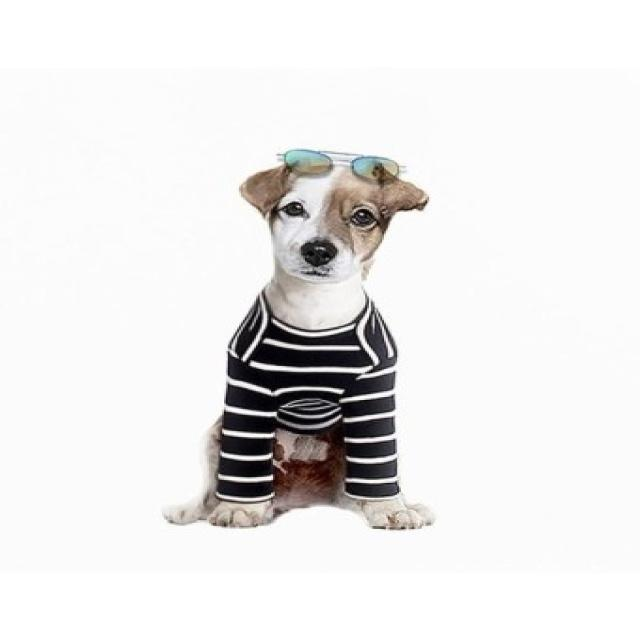cloth: (216, 294, 400, 502)
